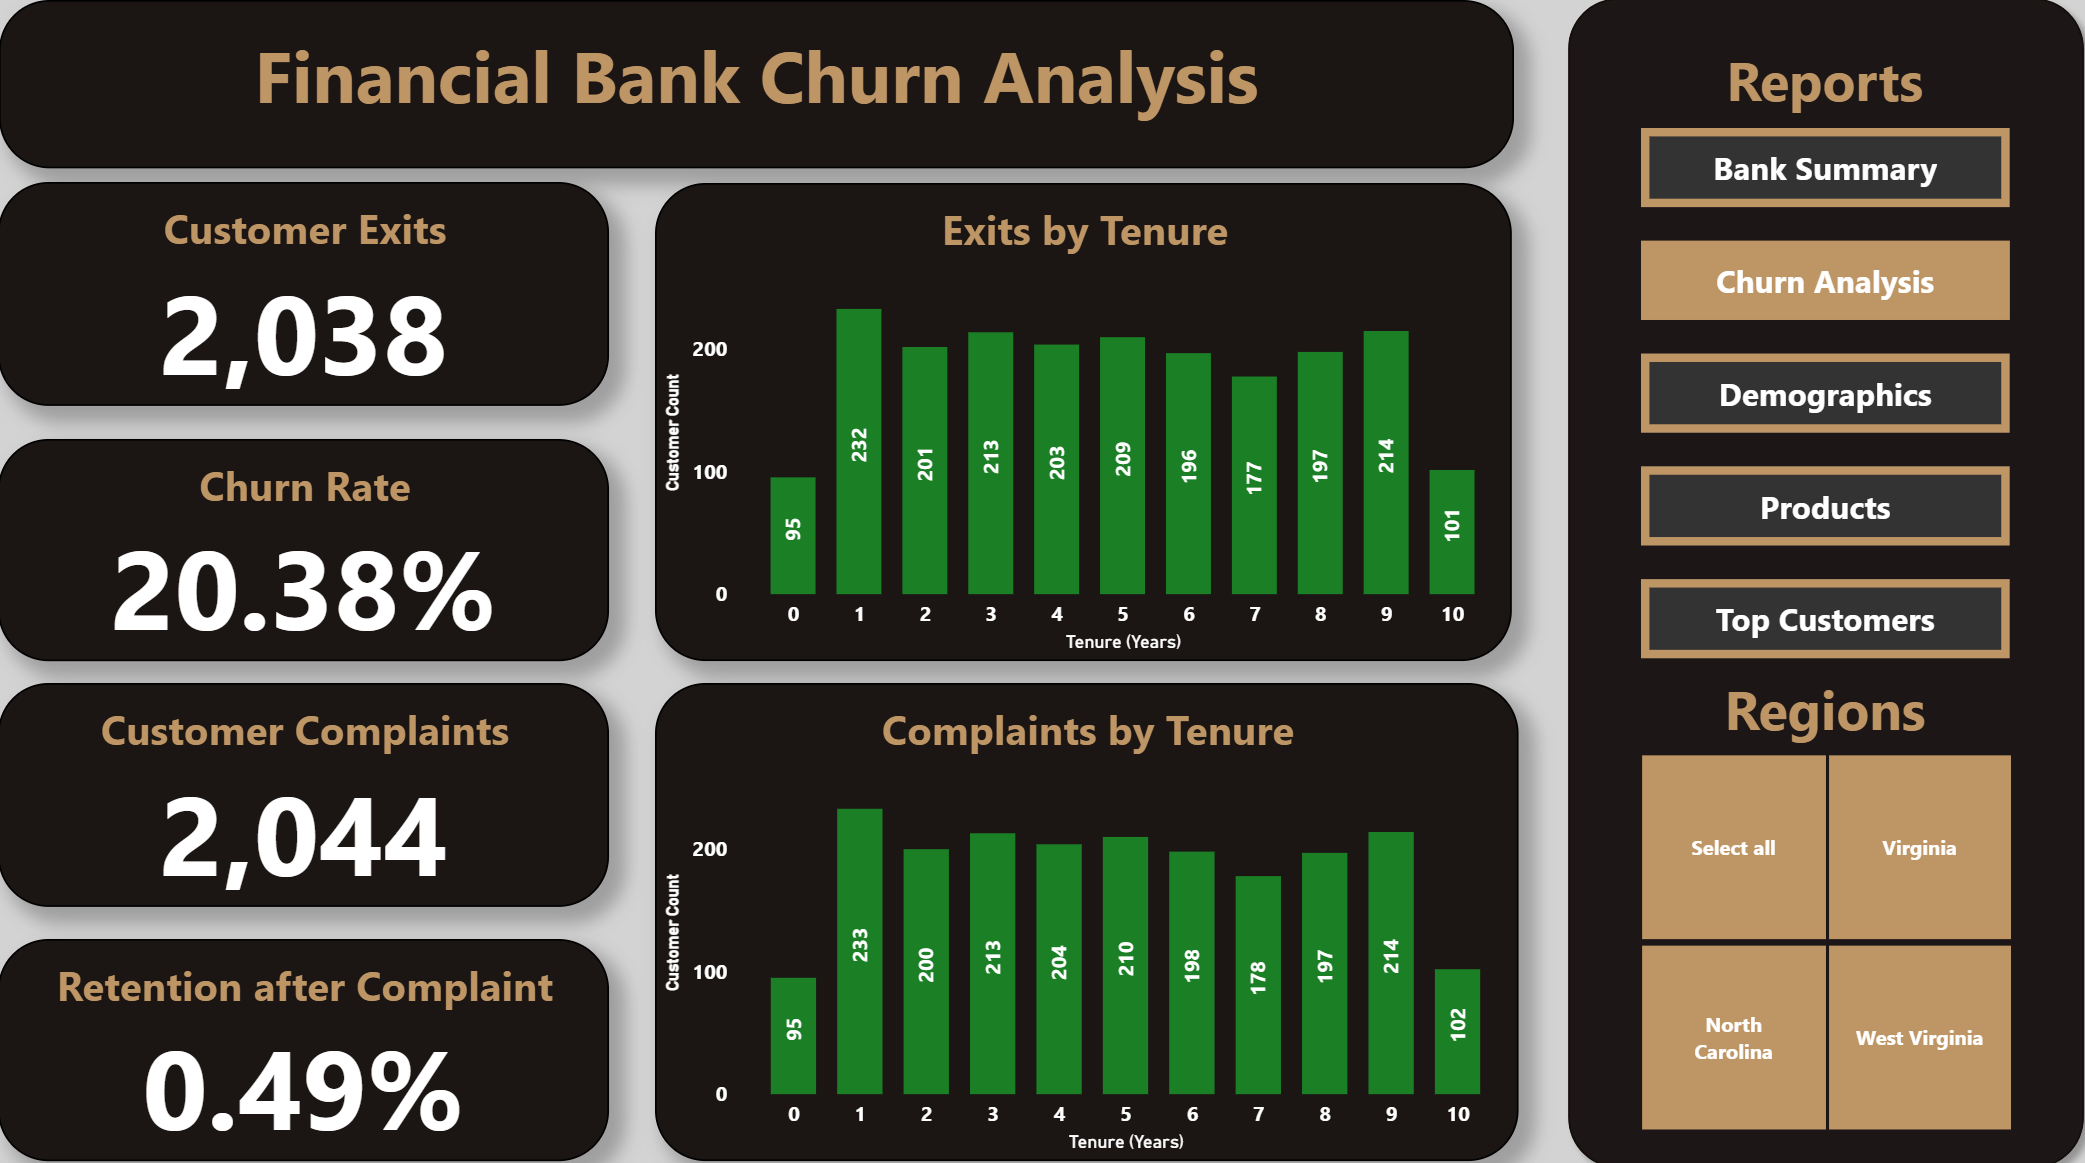

The dashboard page shown, as its layout file describes it:
{"tool":"powerbi","page":{"name":"Churn Analysis","canvas":[1280,720],"ordinal":1},"visuals":[{"type":"card","title":"Churn Rate","fields":{"Values":["BankData.Churn"]},"box":[16.1,273.7,362.9,131.7],"z":0},{"type":"textbox","box":[16.7,13.3,900,100],"z":1000},{"type":"shape","box":[939.9,3,324.4,713],"z":2000},{"type":"slicer","title":"Regions","fields":{"Values":["BankData.Geography"]},"box":[971.7,406.8,259,283.9],"z":3000},{"type":"textbox","box":[976.1,38,250.2,49.8],"z":4000},{"type":"columnChart","title":"Exits by Tenure","fields":{"Category":["BankData.Tenure"],"Y":["CountNonNull(BankData.Exited)"]},"box":[406.3,122.1,509.2,284.3],"z":5000},{"type":"card","title":"Customer Exits","fields":{"Values":["CountNonNull(BankData.Exited)"]},"box":[16.1,121.5,362.9,133.2],"z":6000},{"type":"columnChart","title":"Complaints by Tenure","fields":{"Y":["CountNonNull(BankData.Complain)"],"Category":["BankData.Tenure"]},"box":[406.3,418.5,512.7,284.3],"z":7000},{"type":"card","title":"Customer Complaints","fields":{"Values":["CountNonNull(BankData.Complain)"]},"box":[16.1,418.5,362.9,133.2],"z":8000},{"type":"card","title":"Retention after Complaint","fields":{"Values":["BankData.Post-Complaint Retention Rate"]},"box":[16.1,570.7,362.9,131.7],"z":9000},{"type":"pageNavigator","box":[992.2,89.3,219.5,316.1],"z":10000}]}

Visuals, with their boxes in screenshot pixels (x1, y1, x2, y2), scaled from the page's 1280x720 canvas onto the 2085x1163 screenshot:
"Churn Rate" card: [26, 442, 617, 655]
textbox: [27, 21, 1493, 183]
shape: [1531, 5, 2059, 1157]
"Regions" slicer: [1583, 657, 2005, 1116]
textbox: [1590, 61, 1998, 142]
"Exits by Tenure" columnChart: [662, 197, 1491, 656]
"Customer Exits" card: [26, 196, 617, 411]
"Complaints by Tenure" columnChart: [662, 676, 1497, 1135]
"Customer Complaints" card: [26, 676, 617, 891]
"Retention after Complaint" card: [26, 922, 617, 1135]
pageNavigator: [1616, 144, 1974, 655]
